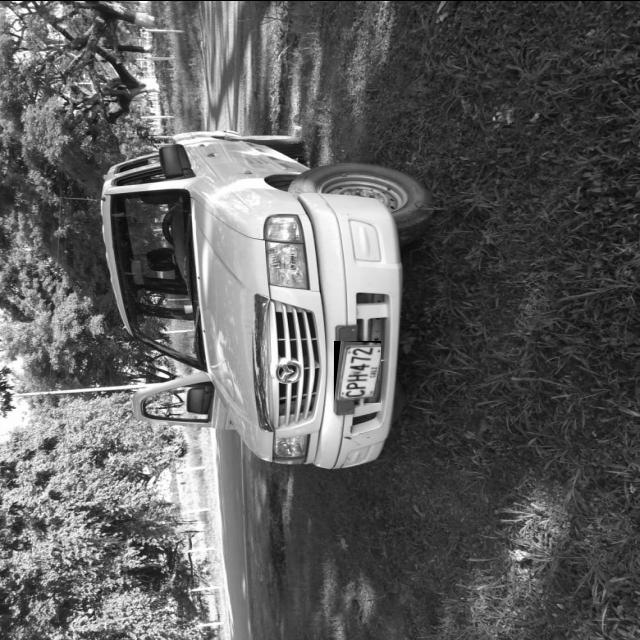plate: (334, 341, 381, 402)
